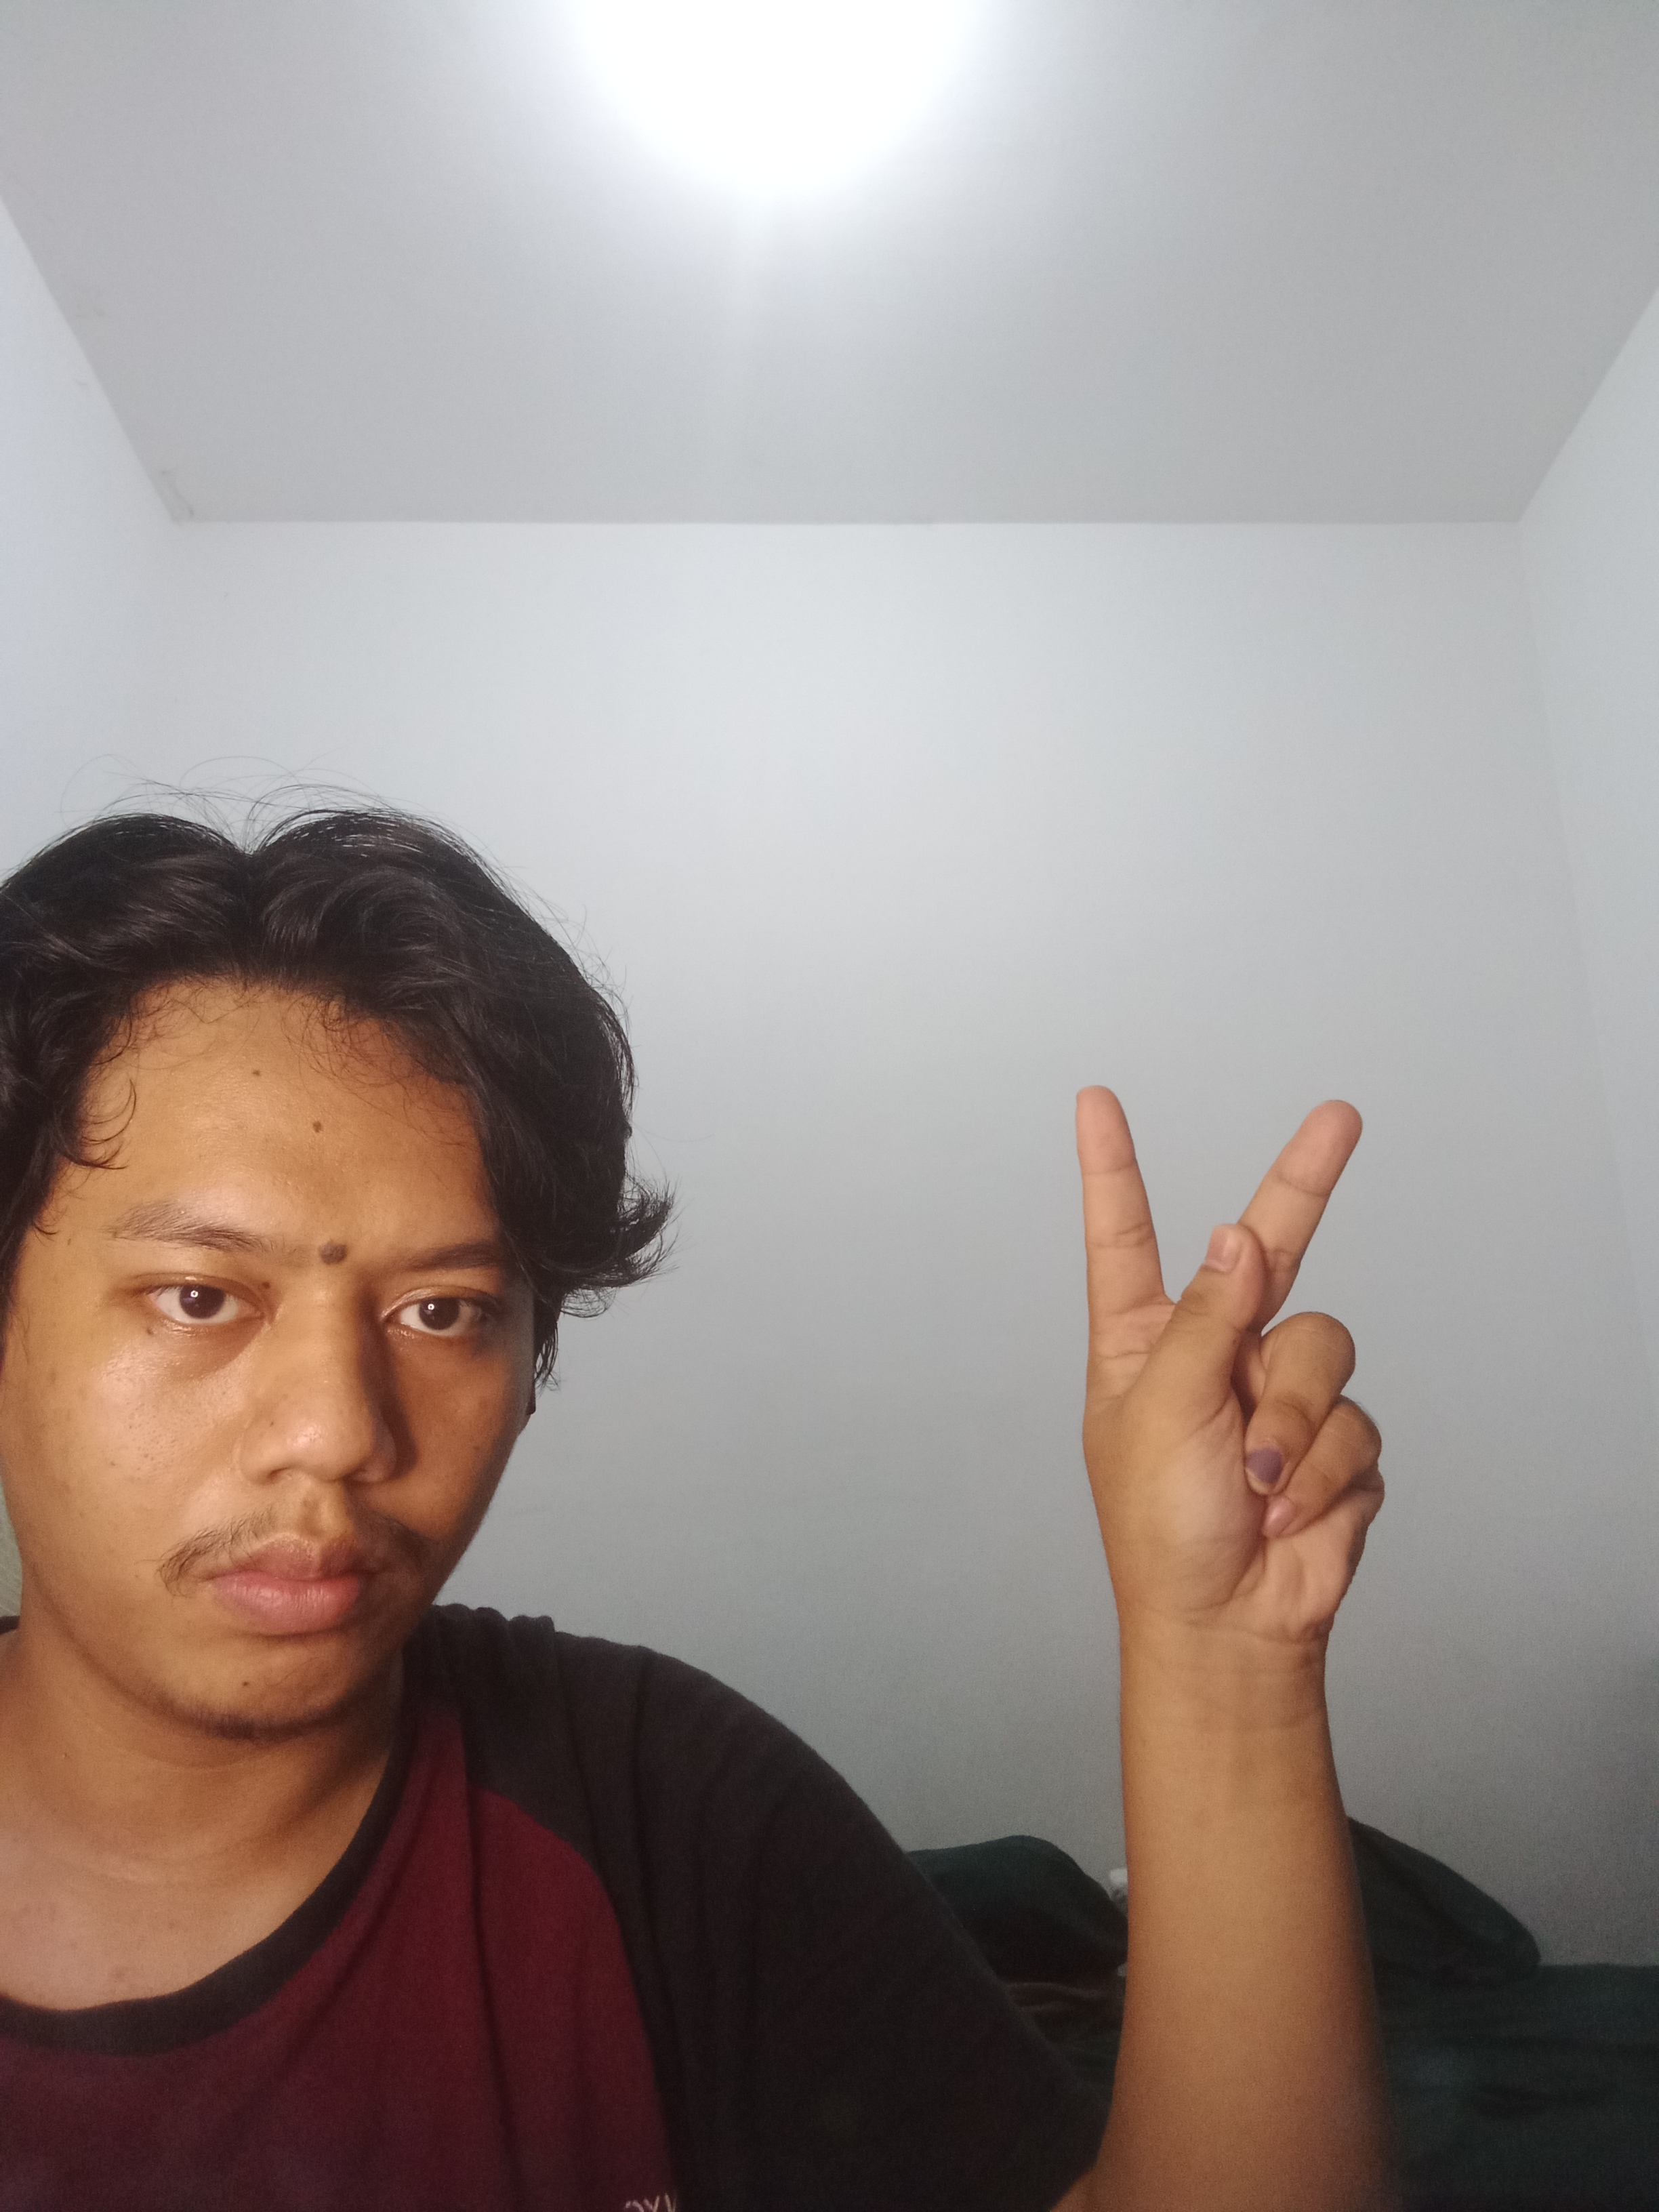K: (1033, 1052, 1439, 1662)
